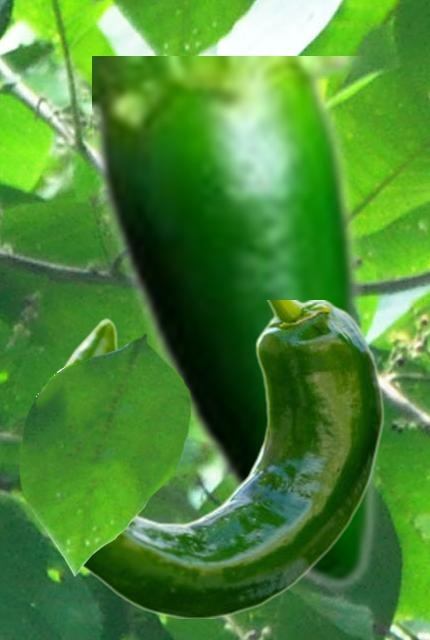green_chili: (92, 56, 378, 591), (57, 300, 384, 617)
